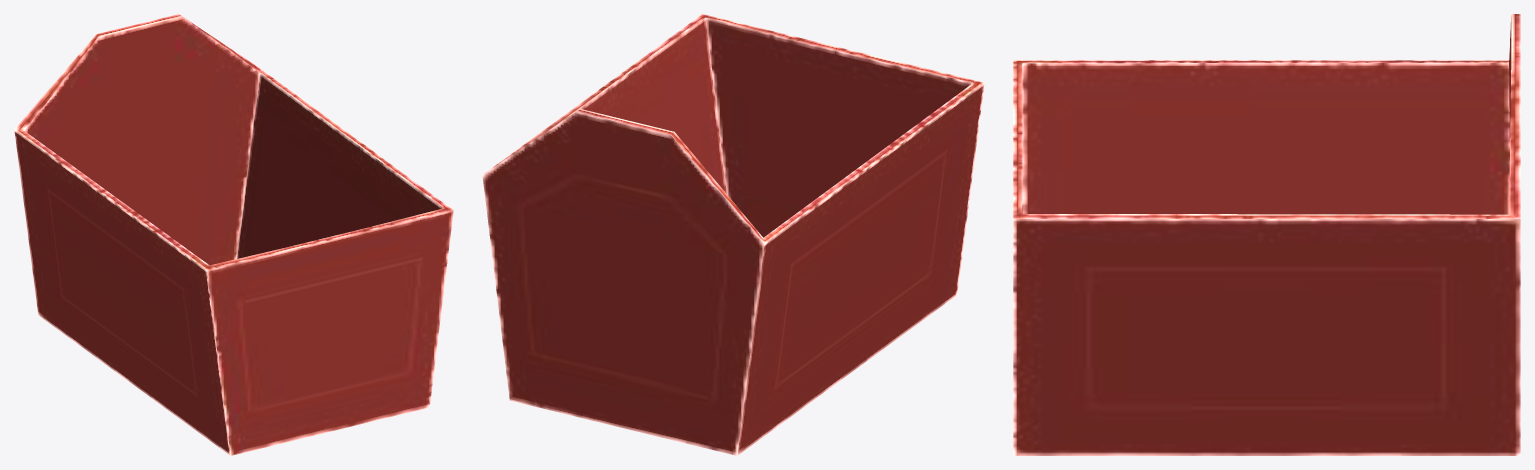
Rendered from cart_tall.glb.
3 renders of one model, left to right at view 1: azimuth 30°, elevation 25°; view 2: azimuth 150°, elevation 25°; view 3: azimuth 270°, elevation 25°, orthographic. The views are drawn at different scales.
Parts seen in each view (by area): view 1: Cart_1.001; view 2: Cart_1.001; view 3: Cart_1.001.
Boxes of the visible parts, x1=… form: Cart_1.001: x1=14, y1=14, x2=453, y2=455; Cart_1.001: x1=482, y1=14, x2=984, y2=455; Cart_1.001: x1=1013, y1=14, x2=1520, y2=455.
Size of the model in its own units: 1 by 1.03 by 1.35.
1 material, 1 textured.
